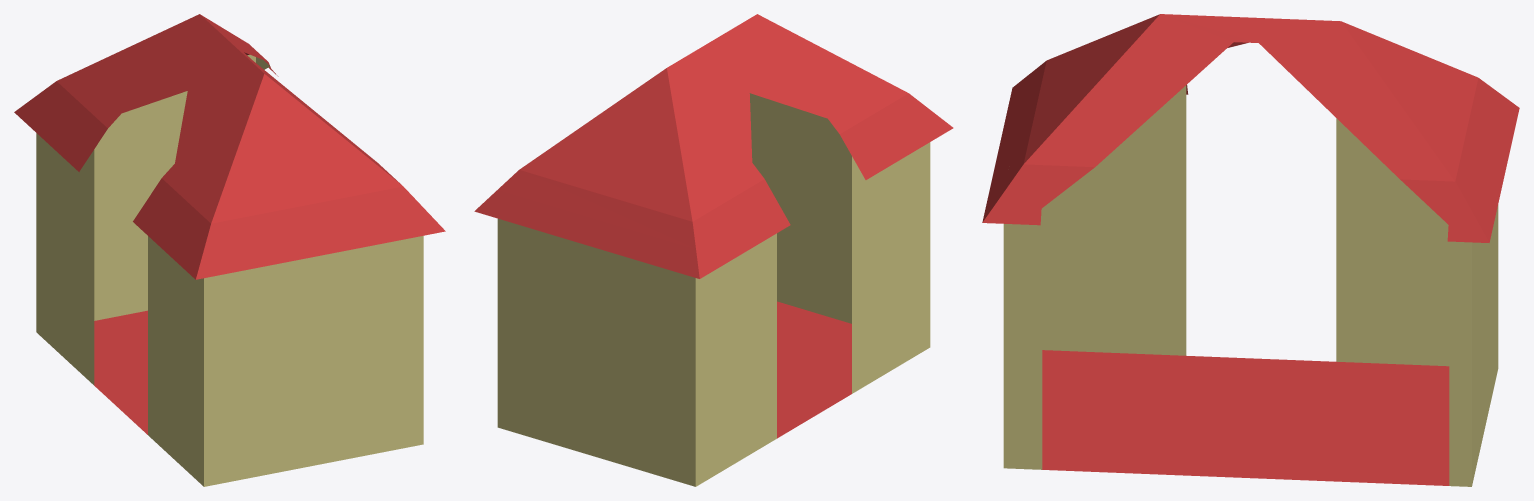
The picture shows the model from 3 angles, left to right: view 1: azimuth 30°, elevation 25°; view 2: azimuth 150°, elevation 25°; view 3: azimuth 270°, elevation 25°; orthographic projection. The views are drawn at different scales.
Bounding box in the file's own units: 14.11 × 20.61 × 17.01.
